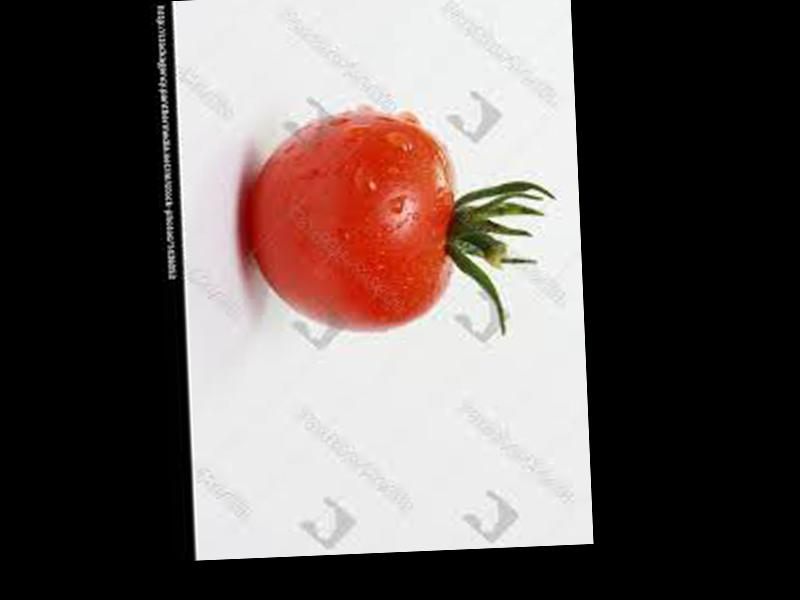Tomato: (242, 113, 458, 336)
